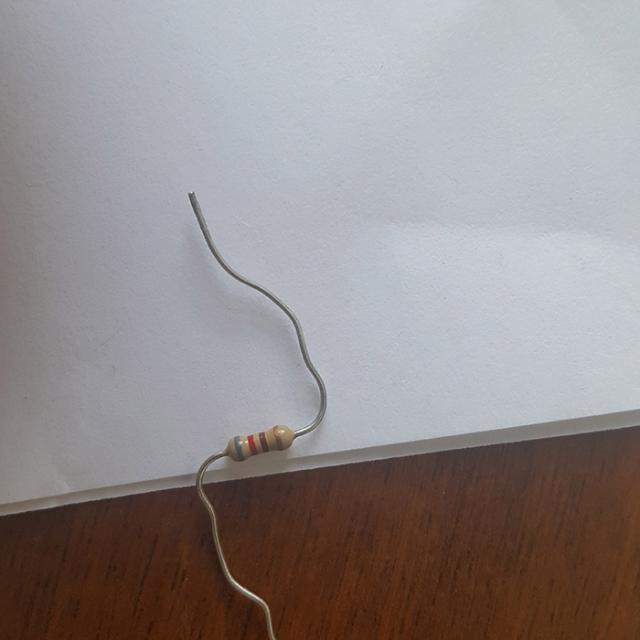brown: (260, 433, 267, 451)
gold: (275, 425, 280, 449)
grey: (236, 436, 242, 459)
red: (249, 435, 256, 455)
resistor: (221, 425, 298, 464)
